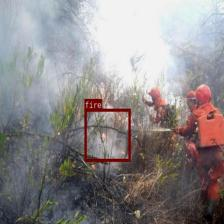fire: (84, 108, 130, 161)
